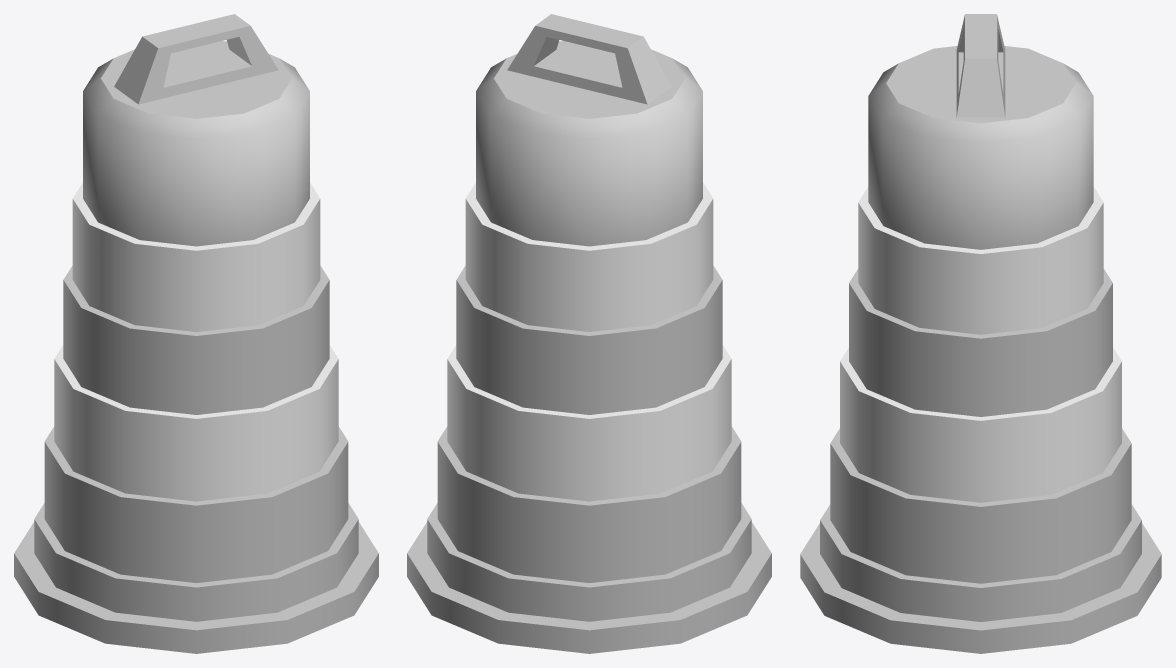
Rendered from TrafficBarrel.fbx.
3 views of the same model, side by side, from view 1: azimuth 30°, elevation 25°; view 2: azimuth 150°, elevation 25°; view 3: azimuth 270°, elevation 25° (orthographic).
Parts seen in each view (by area): view 1: Cylinder; view 2: Cylinder; view 3: Cylinder.
Boxes of the visible parts, x1,y1,x2,y2 form: Cylinder: (14, 14, 378, 653); Cylinder: (407, 14, 771, 653); Cylinder: (800, 14, 1161, 653).
Size of the model in its own units: 120 by 198 by 120.
